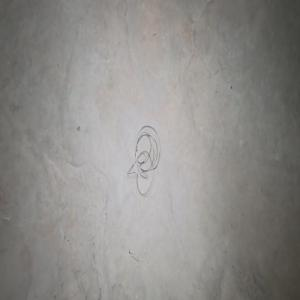Wire: (126, 125, 159, 195)
